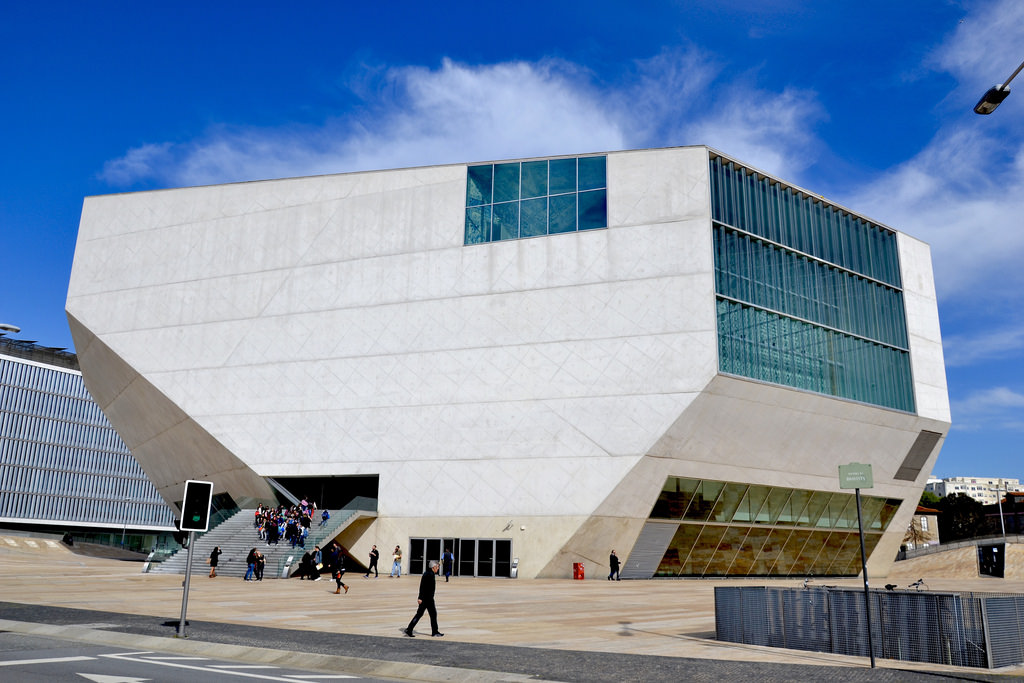musica: (61, 143, 956, 581)
